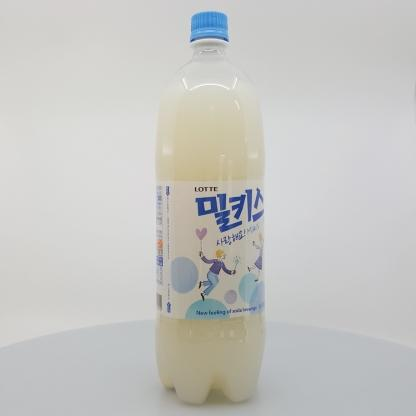-----1-5L: (155, 11, 266, 404)
